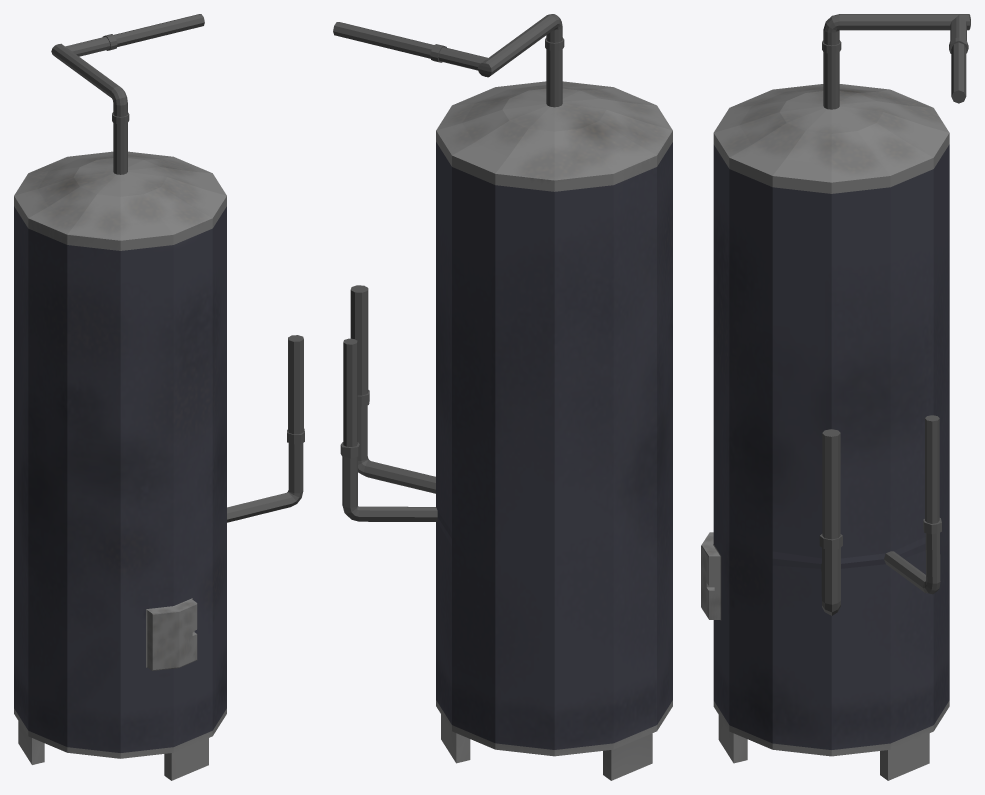
The model's file is Boiler And Pipes.fbx.
3 views of the same model, side by side, from view 1: azimuth 30°, elevation 25°; view 2: azimuth 150°, elevation 25°; view 3: azimuth 270°, elevation 25° (orthographic). The views are drawn at different scales.
Visible parts, largest first — view 1: Boiler, Pipe 1, Pipe 3; view 2: Boiler, Pipe 1, Pipe 2, Pipe 3; view 3: Boiler, Pipe 1, Pipe 2, Pipe 3.
Boxes of the visible parts, x1,y1,x2,y2 form: Boiler: (14,34,304,780); Pipe 1: (288,335,303,434); Pipe 3: (114,14,204,46); Boiler: (340,14,672,780); Pipe 1: (350,285,368,395); Pipe 2: (343,338,357,446); Pipe 3: (333,22,434,58); Boiler: (701,14,970,780); Pipe 1: (822,429,840,539); Pipe 2: (925,415,939,523); Pipe 3: (951,42,966,103).
Size of the model in its own units: 1.16 by 2.62 by 0.8842.
